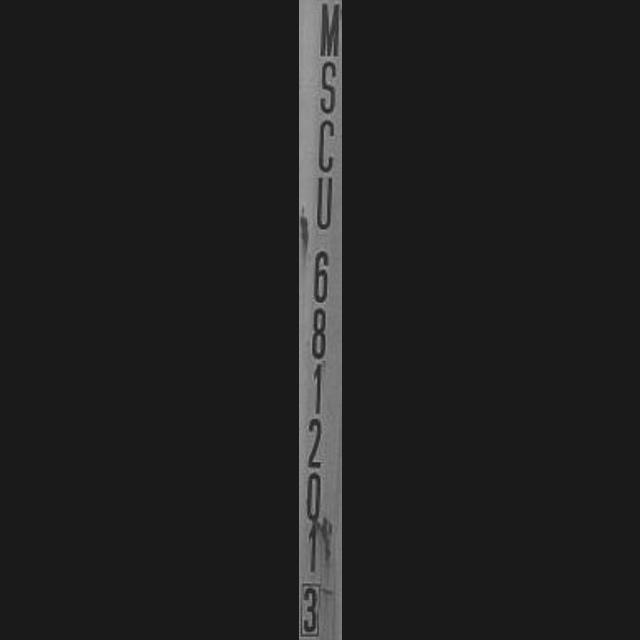0: (298, 469, 328, 523)
1: (298, 362, 342, 418), (298, 522, 328, 580)
2: (298, 414, 332, 474)
3: (298, 576, 326, 640)
6: (298, 242, 342, 304)
8: (298, 301, 340, 369)
c: (305, 114, 341, 174)
m: (303, 0, 341, 60)
s: (302, 56, 341, 118)
u: (306, 166, 340, 232)
